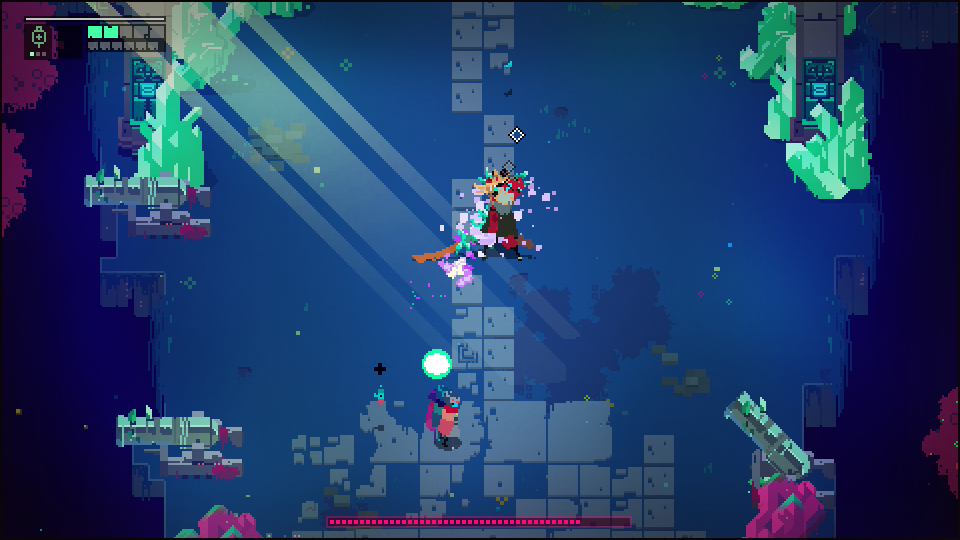hanged_man: (449, 163, 541, 262)
hanged_shot: (419, 349, 452, 379)
player: (435, 392, 464, 448)
